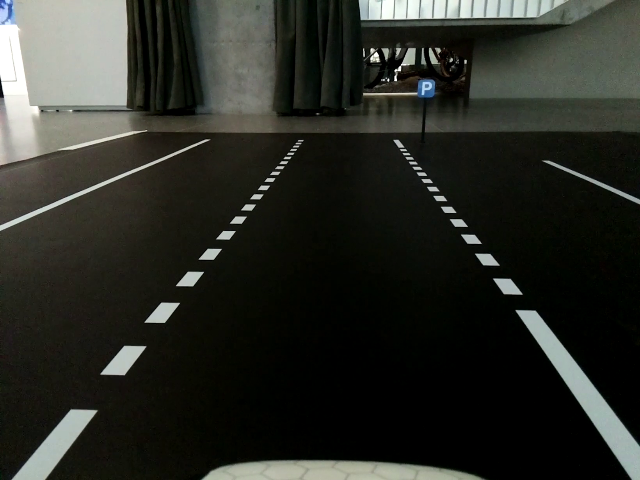park: (418, 79, 434, 99)
